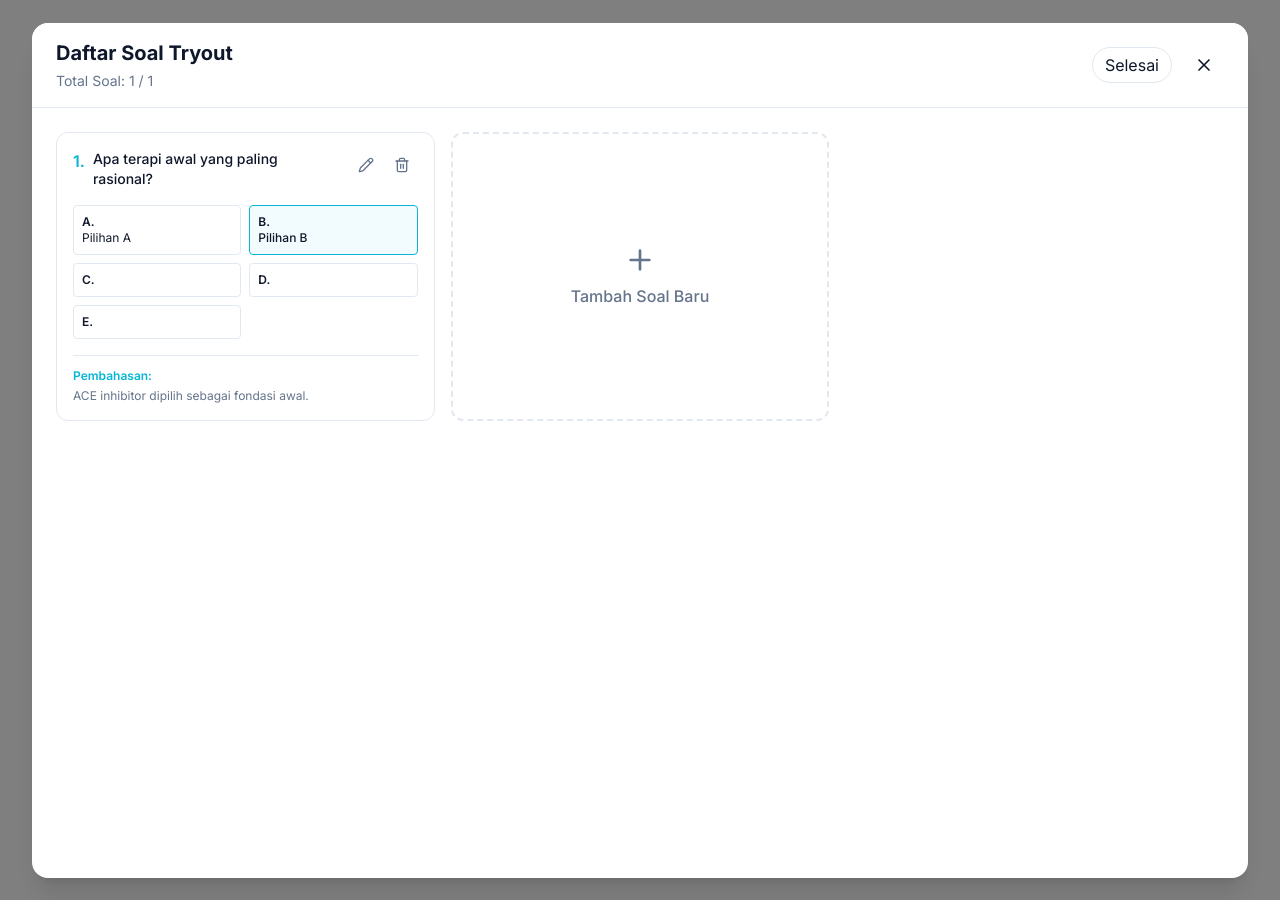
it: Scheduled event editor page - Grid and Modal › can edit an existing question via modal
This screenshot has width=1280, height=900.
Expected: the heading "Daftar Soal Tryout" is shown, [56, 38, 233, 66]
# Find edit button (Pencil icon inside card)
Click the 4th button.
click(366, 164)  # box [350, 148, 382, 180]
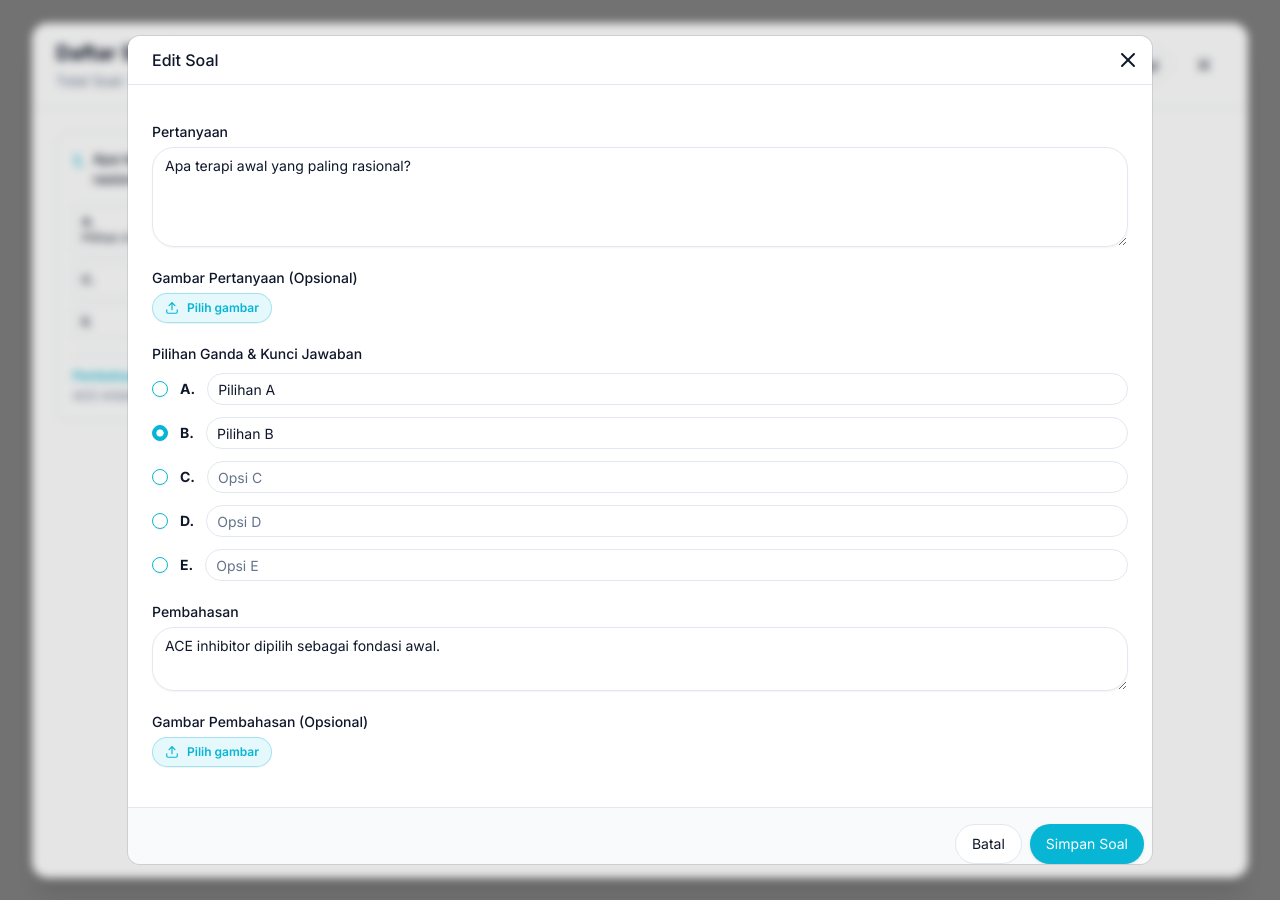
Now the heading "Edit Soal" is shown, box [152, 50, 219, 70]
Now the text box labelled "Pertanyaan" holds "Apa terapi awal yang paling rasional?"
Replace the text in the text box labelled "Pertanyaan" with "Soal Diedit?" at (640, 197), box [152, 147, 1128, 247]
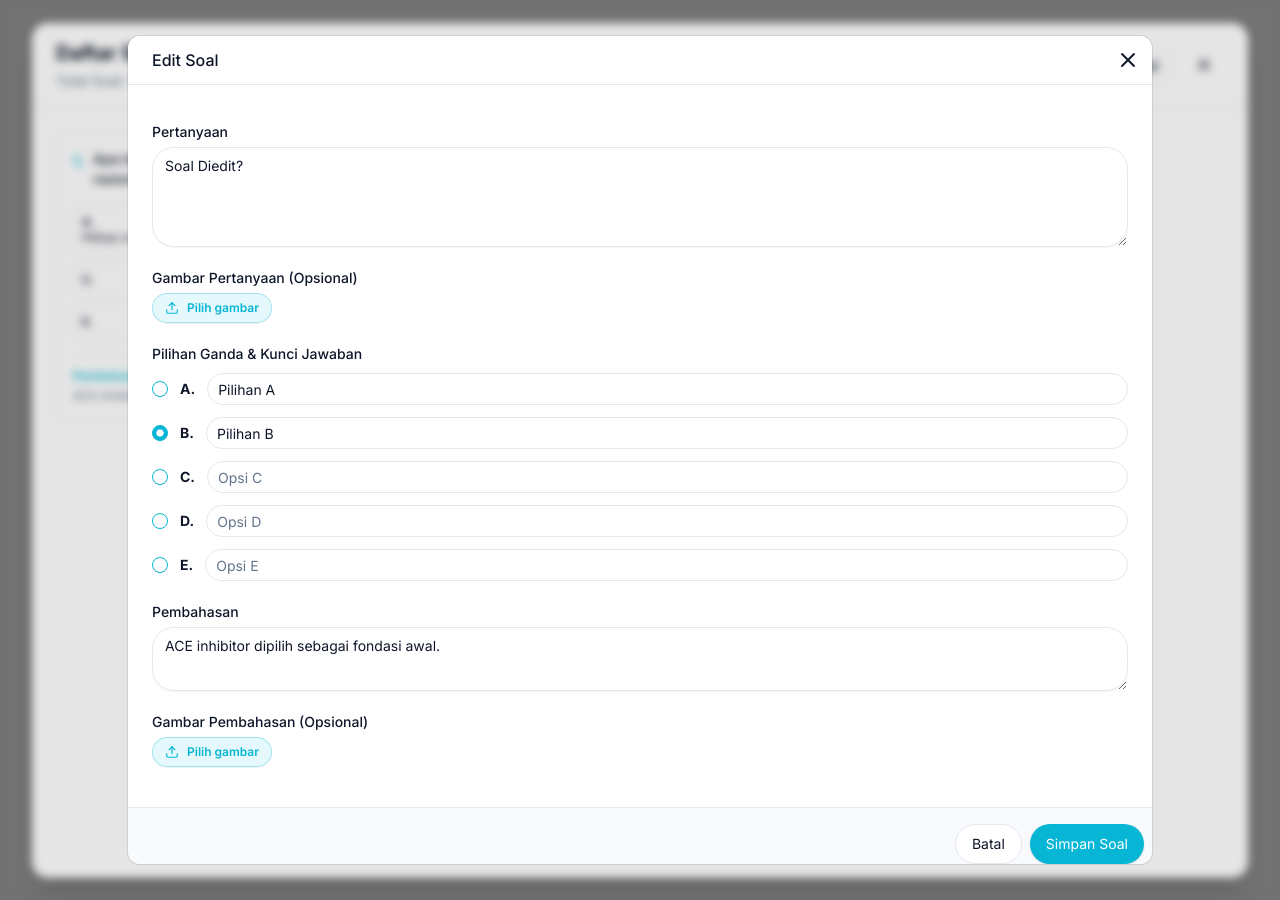
Click the button "Simpan Soal".
click(1087, 844)  # box [1030, 824, 1144, 864]
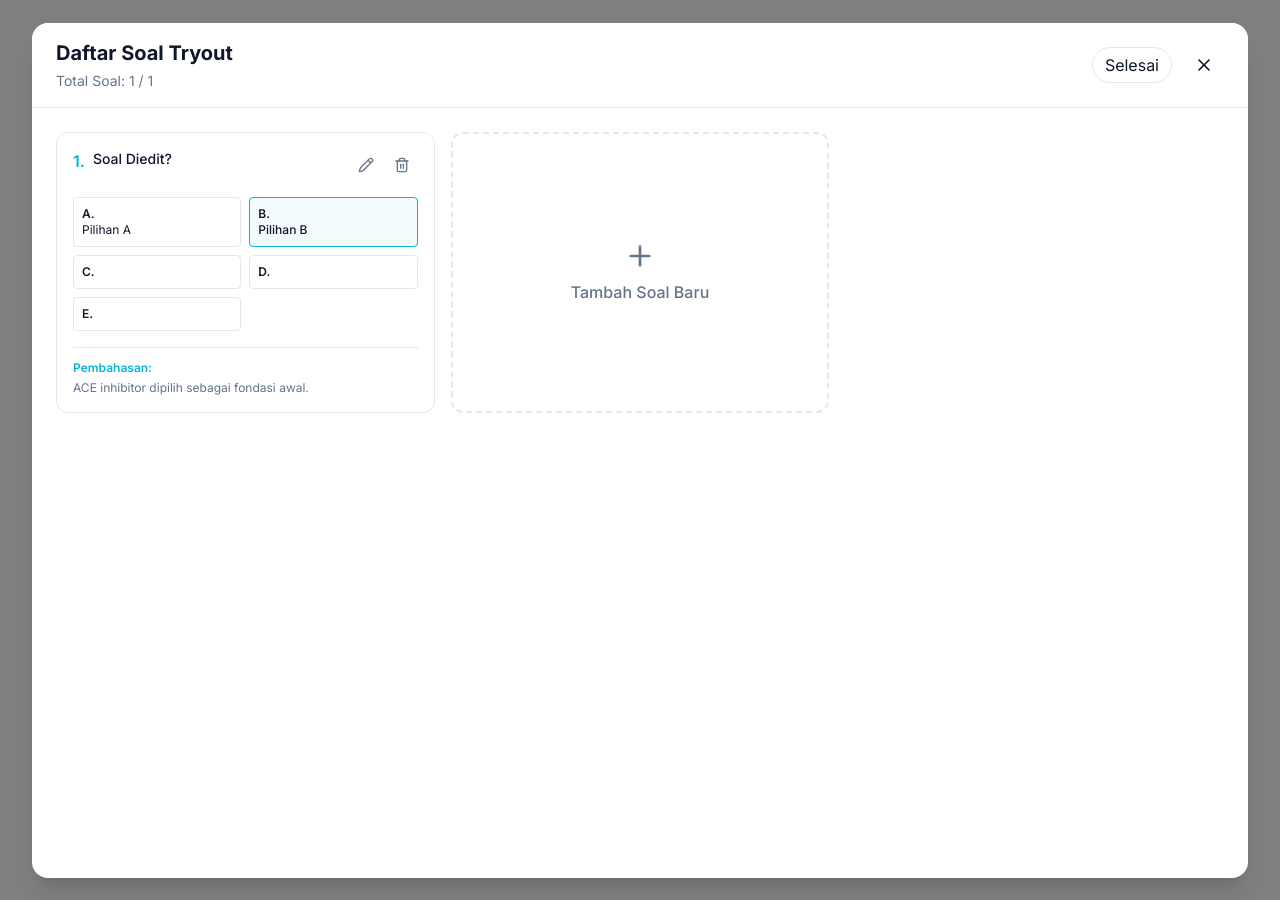
Now the text "Soal Diedit?" is shown, box [93, 148, 172, 172]
